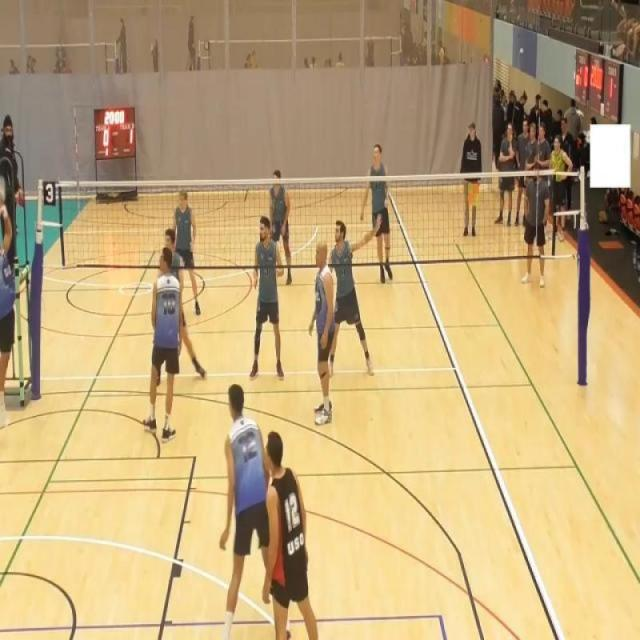volleyball: (0, 173, 6, 206)
